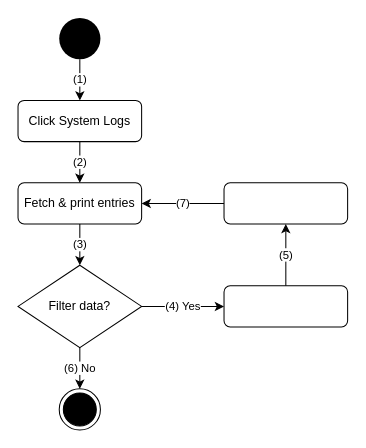
Some shapes in this 366 by 448 pixel diagram are drawn without their labels. The shapes that lost their labels are listed below. From the top down, each one's box as (x1, y1, x2, y2) in pixels, then its label:
(223, 182, 348, 224): Process & update view
(223, 285, 348, 327): Select criteria & click Filter
